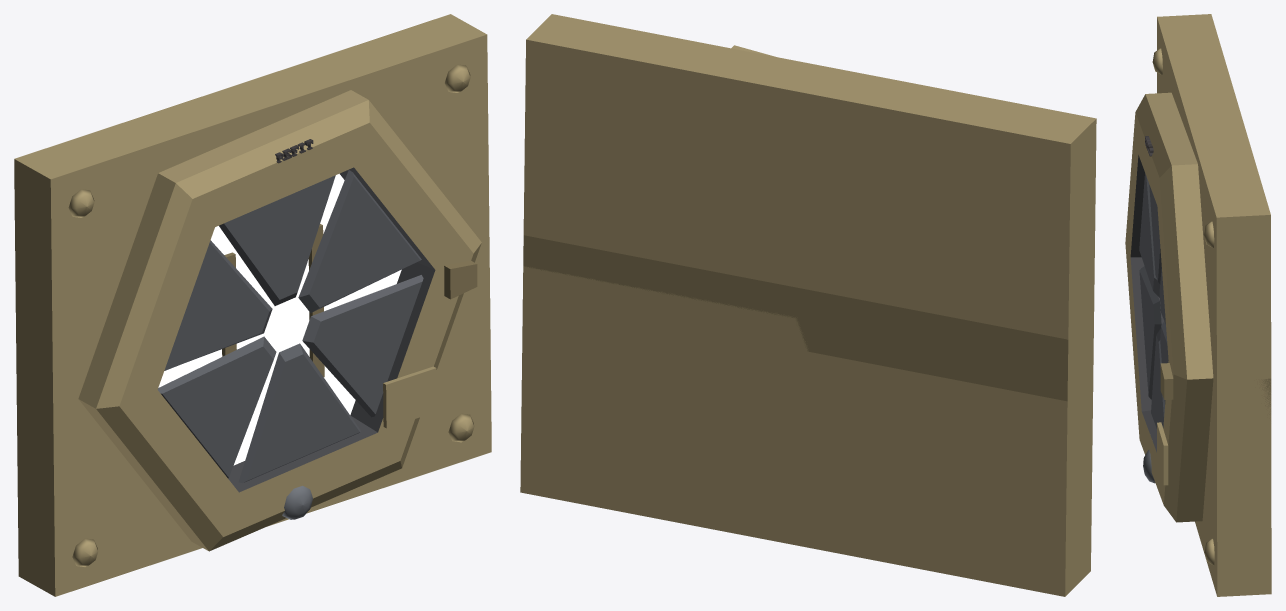
The model's file is refit.glb.
3 views of the same model, side by side, from view 1: azimuth 30°, elevation 25°; view 2: azimuth 150°, elevation 25°; view 3: azimuth 270°, elevation 25° (orthographic). The views are drawn at different scales.
Visible parts, largest first — view 1: log_refit_base, log_refit_frame, log_refit_leaf_5, log_refit_leaf_4, log_refit_leaf_0, log_refit_leaf_3, log_refit_leaf_1, log_refit_leaf_2, log_refit_glow, log_refit_throat, log_refit_tally, log_refit_detent (+1 smaller); view 2: log_refit_base, log_refit_srail; view 3: log_refit_base, log_refit_frame, log_refit_throat, log_refit_leaf_3, log_refit_leaf_2, log_refit_leaf_4, log_refit_leaf_1, log_refit_tally, log_refit_detent, log_refit_leaf_5, log_refit_jewel, log_refit_rivet_1 (+2 smaller).
Boxes of the visible parts, x1,y1,x2,y2 form: log_refit_base: (14,14,491,596); log_refit_frame: (78,90,481,551); log_refit_leaf_5: (302,275,423,417); log_refit_leaf_4: (238,343,360,483); log_refit_leaf_0: (298,170,421,312); log_refit_leaf_3: (157,336,276,478); log_refit_leaf_1: (219,175,335,305); log_refit_leaf_2: (164,240,272,370); log_refit_glow: (158,173,401,465); log_refit_throat: (228,167,435,492); log_refit_tally: (383,366,436,428); log_refit_detent: (444,260,477,299); log_refit_base: (520,14,1096,596); log_refit_srail: (523,235,1068,401); log_refit_base: (1157,14,1271,596); log_refit_frame: (1125,92,1213,522); log_refit_throat: (1130,155,1164,452); log_refit_leaf_3: (1139,266,1161,399); log_refit_leaf_2: (1139,173,1159,297); log_refit_leaf_4: (1151,328,1164,428); log_refit_leaf_1: (1149,185,1161,284); log_refit_tally: (1157,422,1168,485); log_refit_detent: (1160,363,1173,399); log_refit_leaf_5: (1160,321,1168,404); log_refit_jewel: (1143,450,1155,483); log_refit_rivet_1: (1204,538,1214,565).
Size of the model in its own units: 0.063 by 0.0532 by 0.0184.
